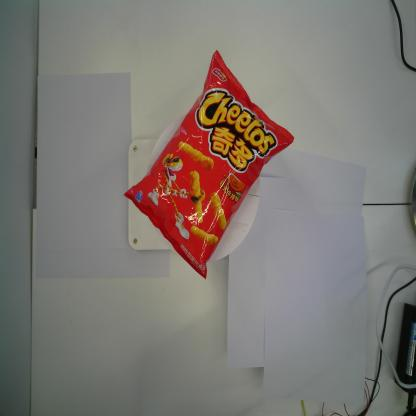Puffed Food: (122, 46, 296, 284)
